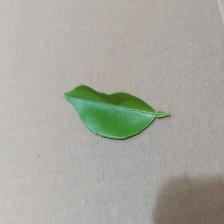healthy: (54, 71, 179, 153)
